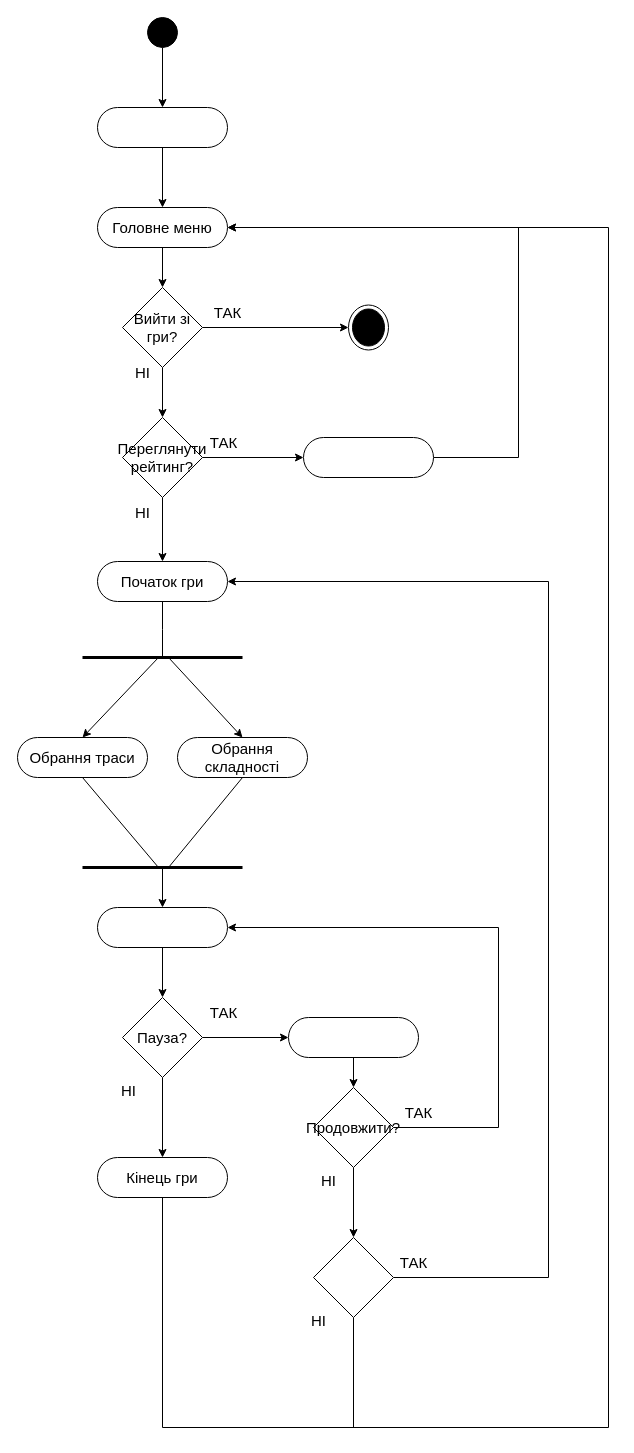
Some shapes in this 634 by 1453 pixel diagram are drawn without their labels. Here are the shapes that lost their labels. From the top down, the centre of each, then its label:
At point 162,127: "Запуск гри".
At point 368,457: "Перегляд рейтингу".
At point 162,927: "Гра".
At point 353,1037: "Пауза".
At point 353,1277: "Почати спочатку?".
